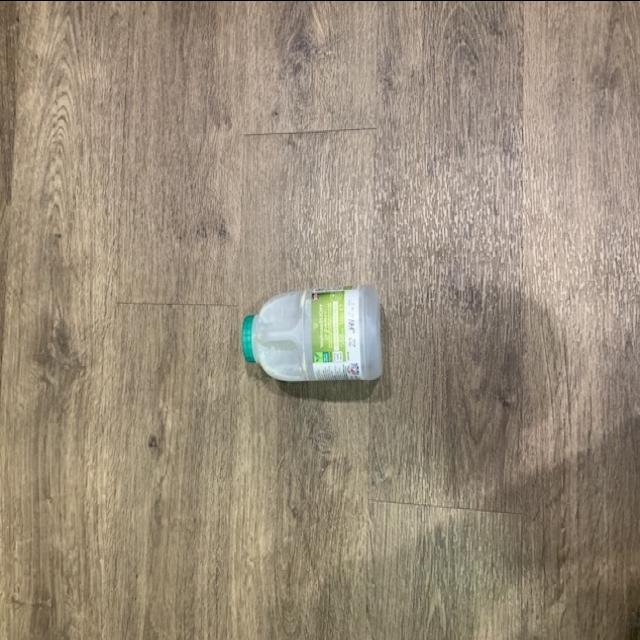litter: (238, 278, 386, 390)
